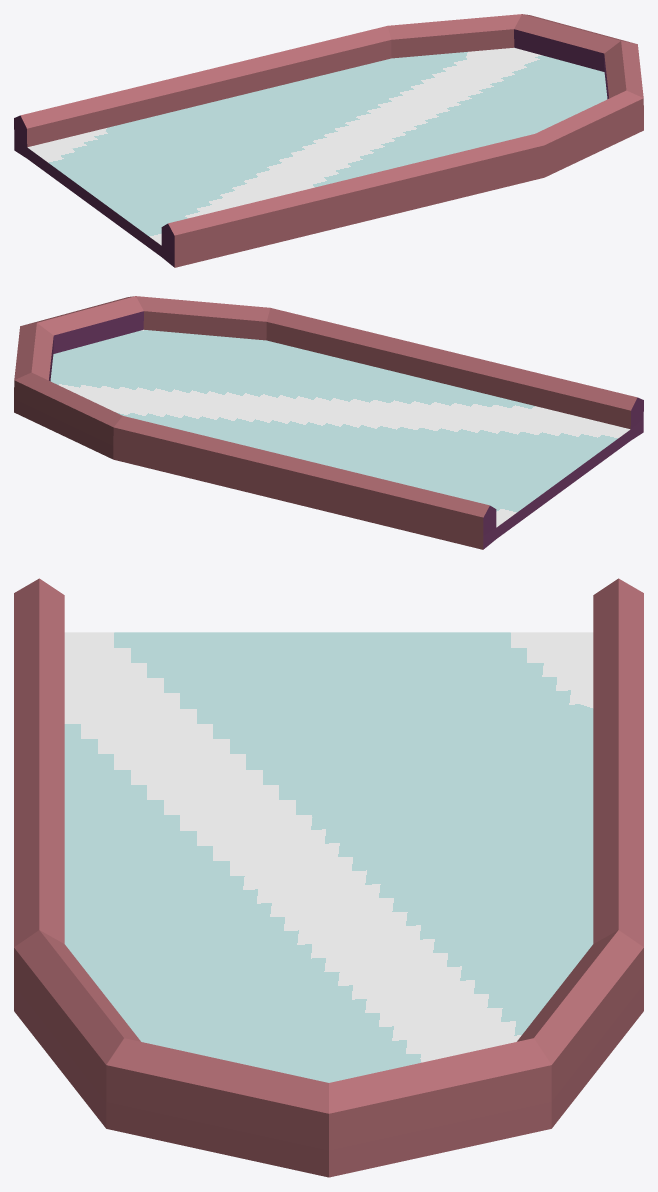
The picture shows the model from 3 angles, top to bottom: view 1: azimuth 30°, elevation 25°; view 2: azimuth 150°, elevation 25°; view 3: azimuth 270°, elevation 25°; orthographic projection. The views are drawn at different scales.
Parts seen in each view (by area): view 1: Plane; view 2: Plane; view 3: Plane.
Boxes of the visible parts, box(x1,y1,x2,y2) form: Plane: box(14, 14, 643, 267); Plane: box(14, 296, 643, 549); Plane: box(14, 578, 643, 1177).
Bounding box in the file's own units: 2.99 × 0.2091 × 1.53.
3 materials, 3 textured.
